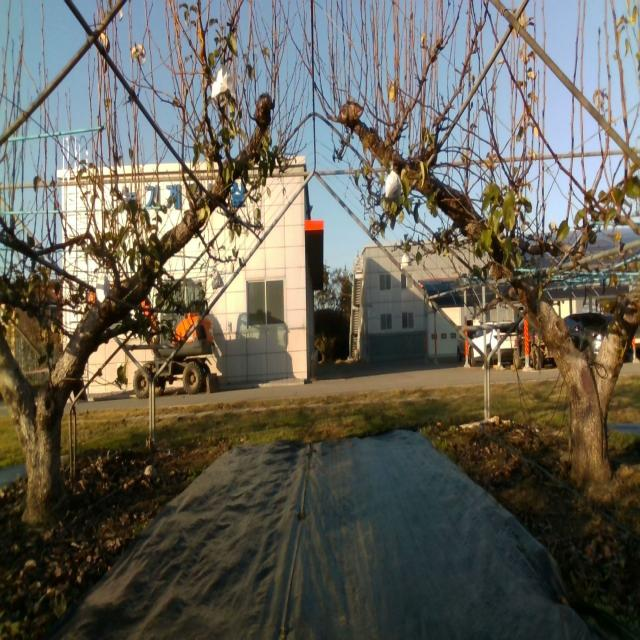pearbags: (211, 65, 236, 101), (382, 169, 402, 203), (96, 266, 110, 302), (211, 268, 225, 290), (400, 252, 412, 270)
